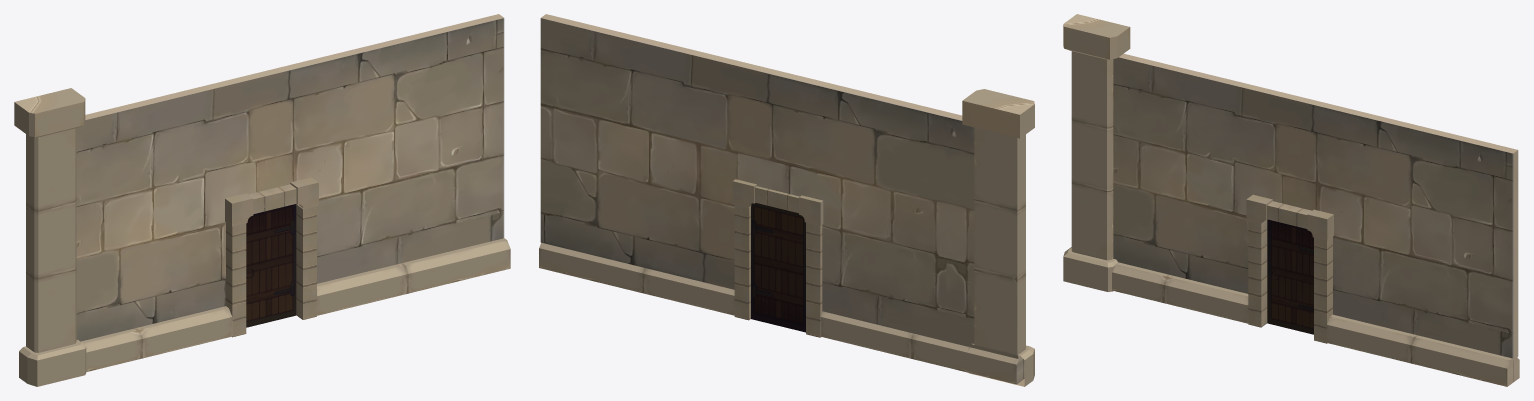
File: pintu-single.fbx
The picture shows the model from 3 angles, left to right: view 1: azimuth 30°, elevation 25°; view 2: azimuth 150°, elevation 25°; view 3: azimuth 330°, elevation 25°; orthographic projection. The views are drawn at different scales.
Visible parts, largest first — view 1: tembok-pintu-1, Pintu-1; view 2: tembok-pintu-1, Pintu-1; view 3: tembok-pintu-1, Pintu-1.
Boxes of the visible parts, left/top/right/bottom form: tembok-pintu-1: left=14, top=14, right=510, bottom=386; Pintu-1: left=246, top=204, right=296, bottom=327; tembok-pintu-1: left=539, top=14, right=1034, bottom=386; Pintu-1: left=751, top=203, right=805, bottom=332; tembok-pintu-1: left=1063, top=14, right=1519, bottom=386; Pintu-1: left=1267, top=219, right=1313, bottom=334.
Size of the model in its own units: 10.2 by 5.53 by 0.6917.
Materials: 1 (1 with a texture image).
